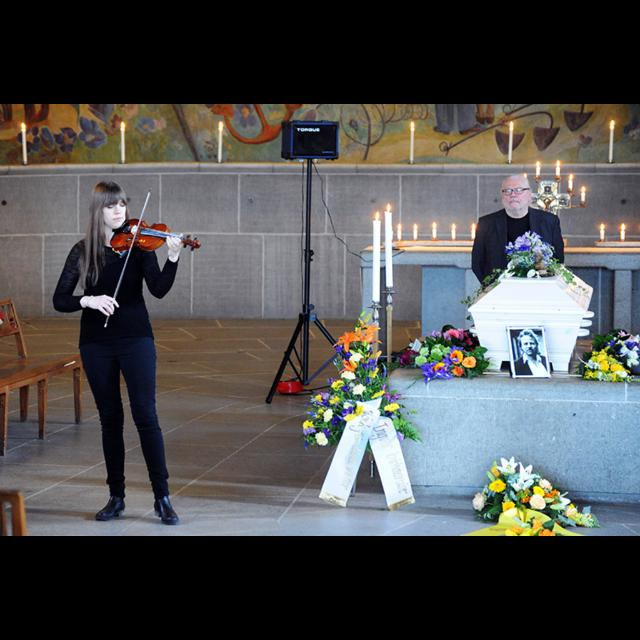Flower: (300, 307, 406, 451), (466, 450, 594, 528), (401, 325, 477, 381), (588, 332, 632, 382), (504, 230, 552, 266), (510, 514, 552, 536), (79, 120, 107, 152), (611, 337, 639, 368), (54, 125, 80, 155), (233, 106, 259, 130), (18, 128, 40, 152), (93, 105, 113, 124), (137, 116, 157, 132), (40, 126, 54, 146)
